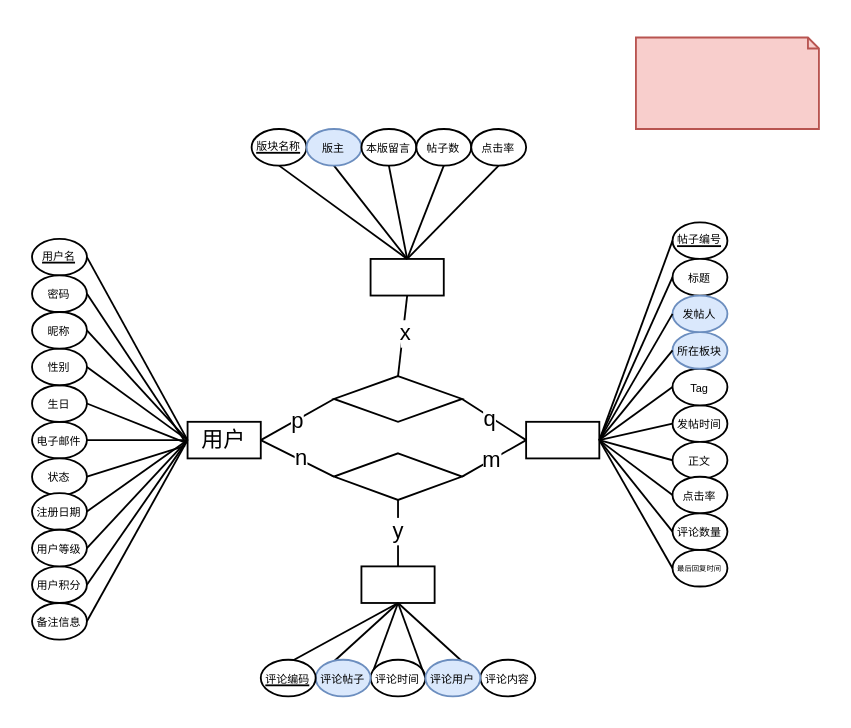
The diagram is 851 pixels wide and 728 high, and some of its shapes have lost their labels. The shapes that lost their labels are listed below. From the top down, each one's centre as x and y in pixels, then its label:
At pixel 726 82: "下划线标明主码 蓝色椭圆框为外码".
At pixel 406 276: "板块".
At pixel 397 398: "发帖".
At pixel 561 439: "帖子".
At pixel 397 475: "发评论".
At pixel 397 584: "评论".
